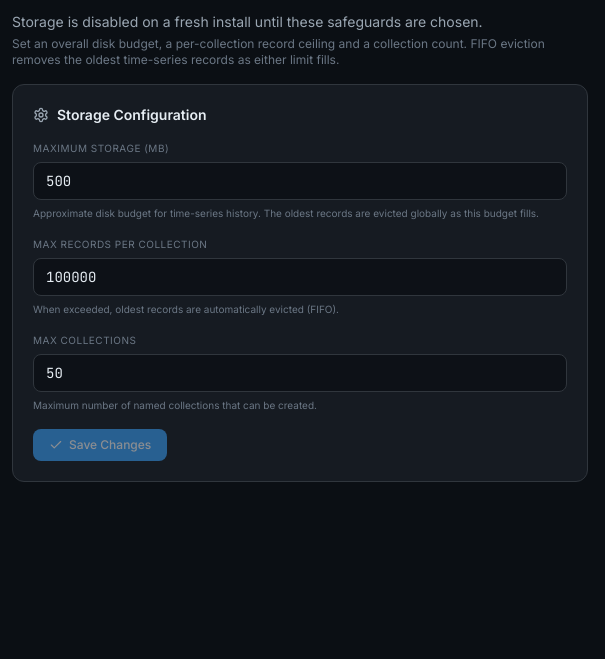
Test case: SettingsPanel › applies the change: PUTs config, refreshes, and shows success
This screenshot has width=605, height=659.
Replace the text in the number field showing "500" below "Maximum Storage (MB)" with "800" at (300, 181), box [33,162,567,200]
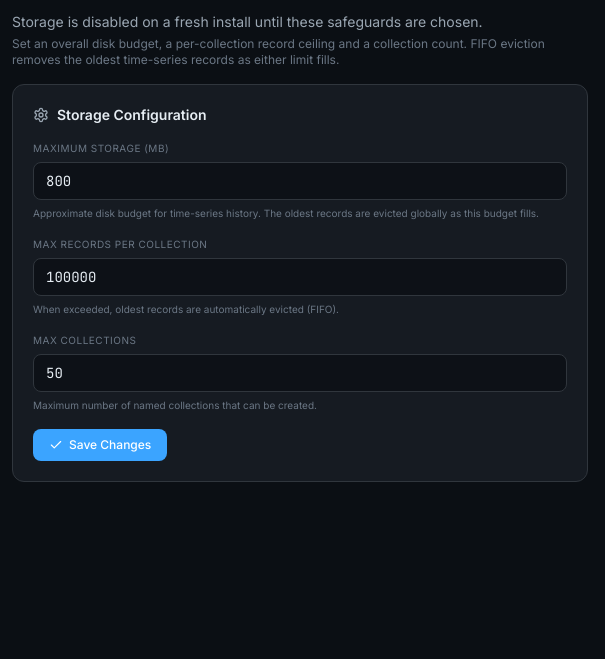
Click the button "Save Changes" at (100, 445), box [33,429,167,461]
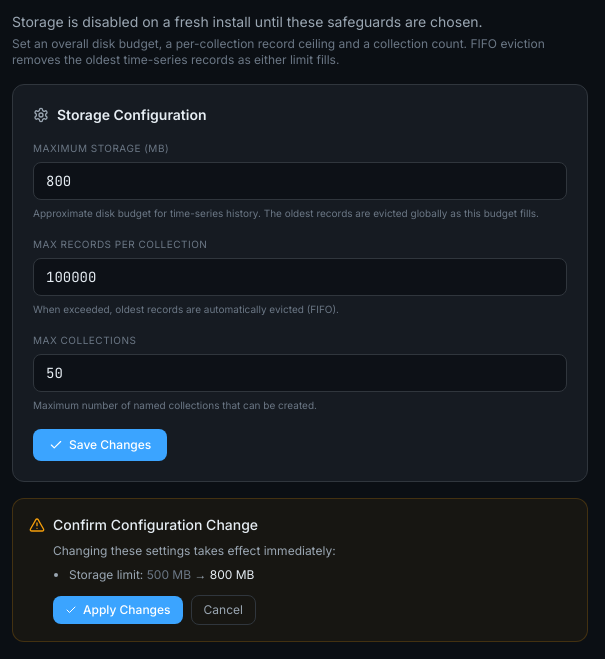
Click the button "Apply Changes" at (118, 610), box [53,596,183,624]
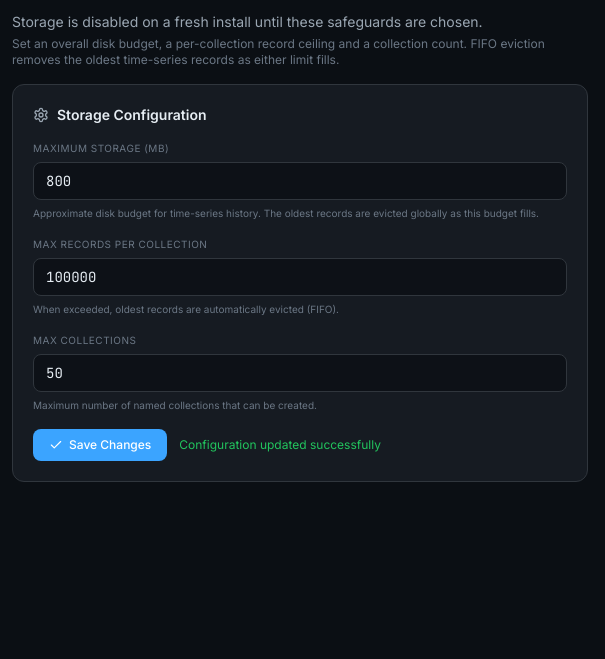
Expected: the text "Configuration updated successfully" is shown, [179,437,381,453]
